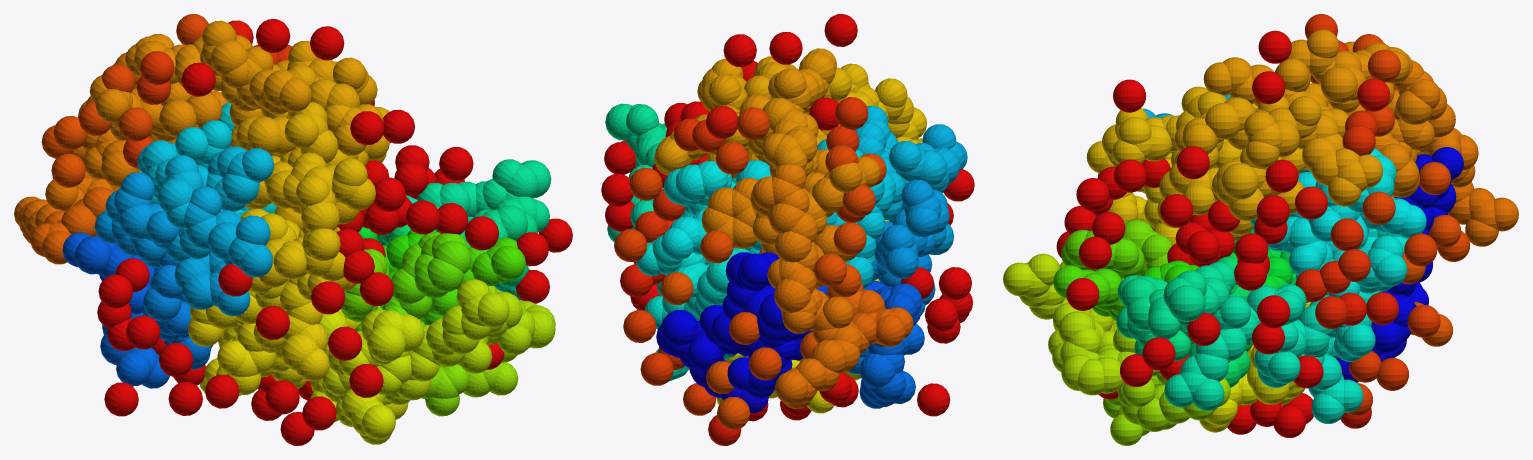
The model's file is 1lyz__spheres__rainbow.glb.
The picture shows the model from 3 angles, left to right: view 1: azimuth 30°, elevation 25°; view 2: azimuth 150°, elevation 25°; view 3: azimuth 270°, elevation 25°; orthographic projection. The views are drawn at different scales.
Parts seen in each view (by area): view 1: Renderer Node; view 2: Renderer Node; view 3: Renderer Node.
Part boxes in pixels (box(x1,y1,x2,y2)): Renderer Node: box(14, 14, 572, 445); Renderer Node: box(601, 14, 974, 445); Renderer Node: box(1003, 14, 1518, 445).
Bounding box in the file's own units: 42.59 × 40.17 × 47.23.
